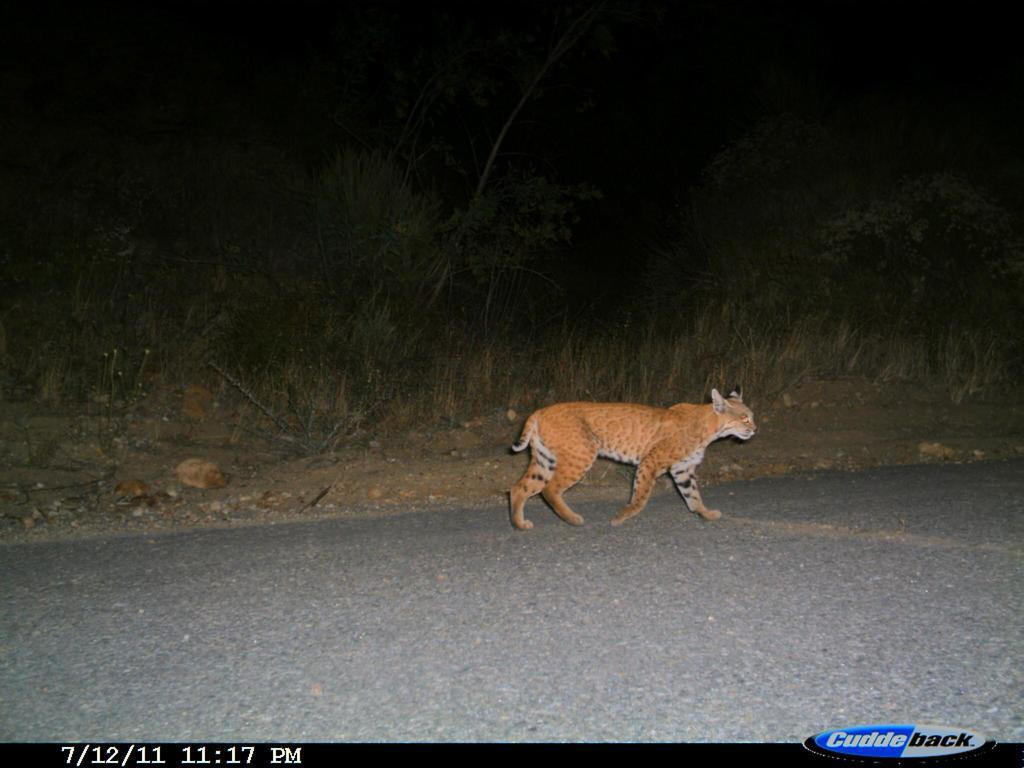bobcat: (502, 386, 788, 552)
